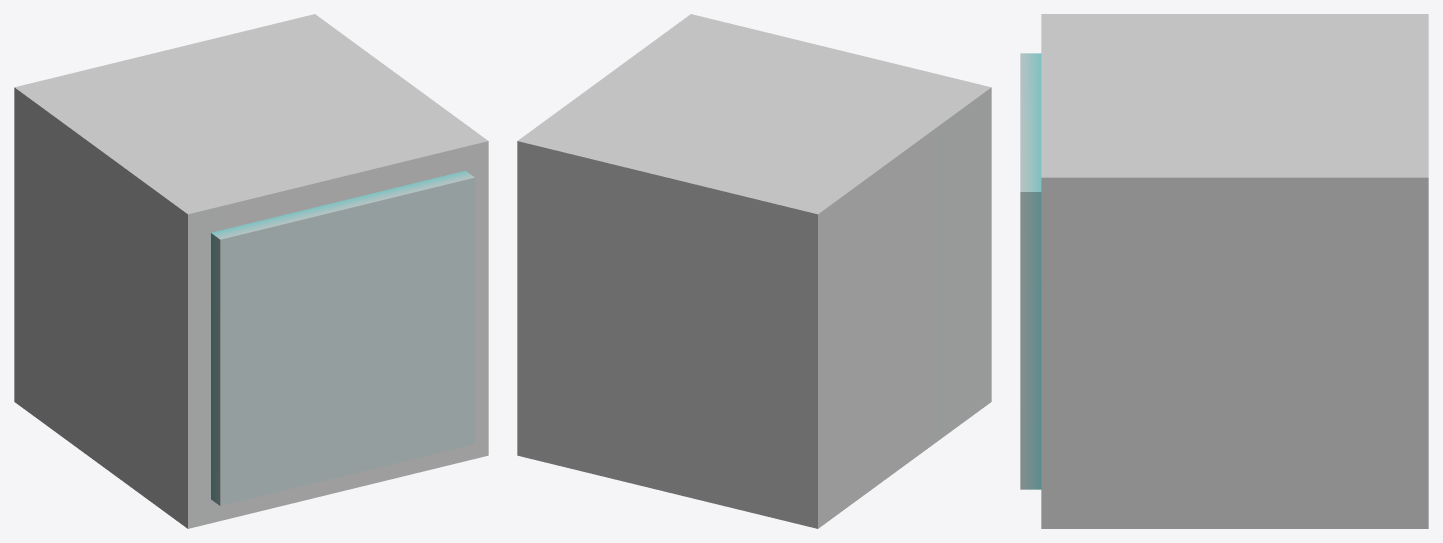
3 renders of one model, left to right at view 1: azimuth 30°, elevation 25°; view 2: azimuth 150°, elevation 25°; view 3: azimuth 270°, elevation 25°, orthographic. The views are drawn at different scales.
Parts seen in each view (by area): view 1: body, panel; view 2: body; view 3: body, panel.
Part boxes in pixels (box(x1,y1,x2,y2)): body: box(14, 14, 488, 528); panel: box(211, 170, 474, 505); body: box(517, 14, 991, 528); body: box(1041, 14, 1428, 528); panel: box(1020, 53, 1041, 489).
Size of the model in its own units: 0.3794 by 0.3794 by 0.4.
